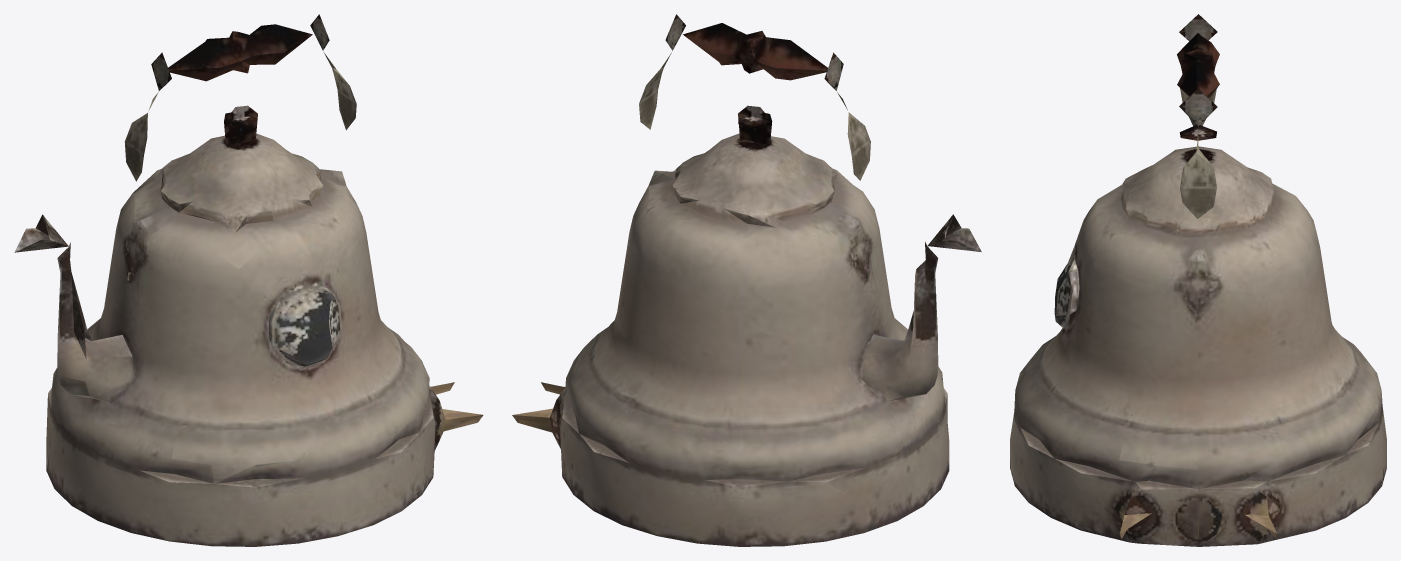
The model's file is kettle.glb.
The picture shows the model from 3 angles, left to right: view 1: azimuth 30°, elevation 25°; view 2: azimuth 150°, elevation 25°; view 3: azimuth 270°, elevation 25°; orthographic projection. The views are drawn at different scales.
Visible parts, largest first — view 1: mesh; view 2: mesh; view 3: mesh.
Part boxes in pixels (box(x1,y1,x2,y2)): mesh: box(14, 14, 483, 546); mesh: box(512, 14, 981, 546); mesh: box(1010, 14, 1386, 546).
Bounding box in the file's own units: 0.3196 × 0.3 × 0.2447.
1 material, 1 textured.
